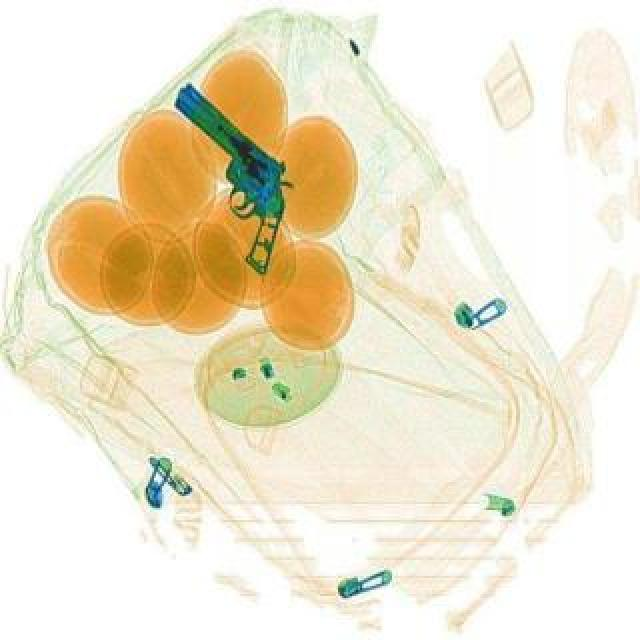gun: (118, 74, 338, 274)
